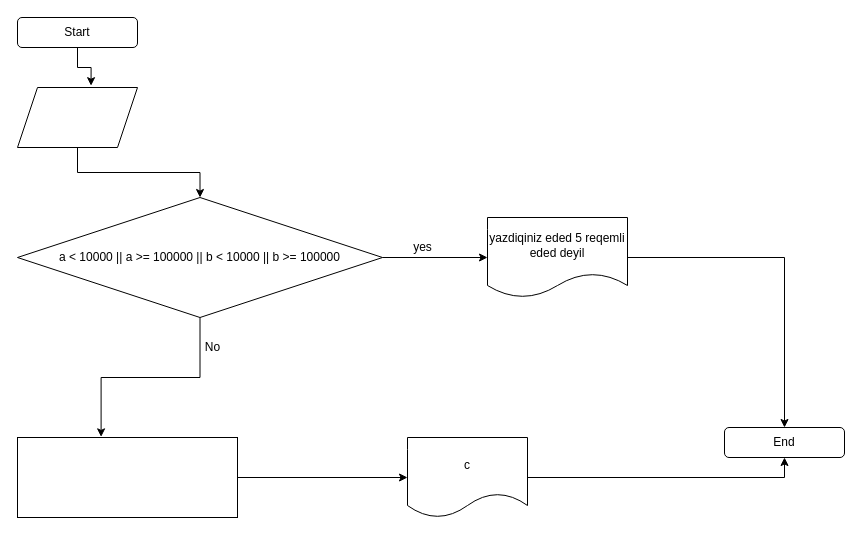
Some shapes in this 862 by 535 pixel diagram are drawn without their labels. Here are the shapes that lost their labels. From the top down, the box of each, then its label:
(16, 86, 138, 148): double a, b = 5 reqemli eded;
(16, 436, 238, 518): double c = (a + b + 500000) * 10 + 5; c = c / 100 * 5;
